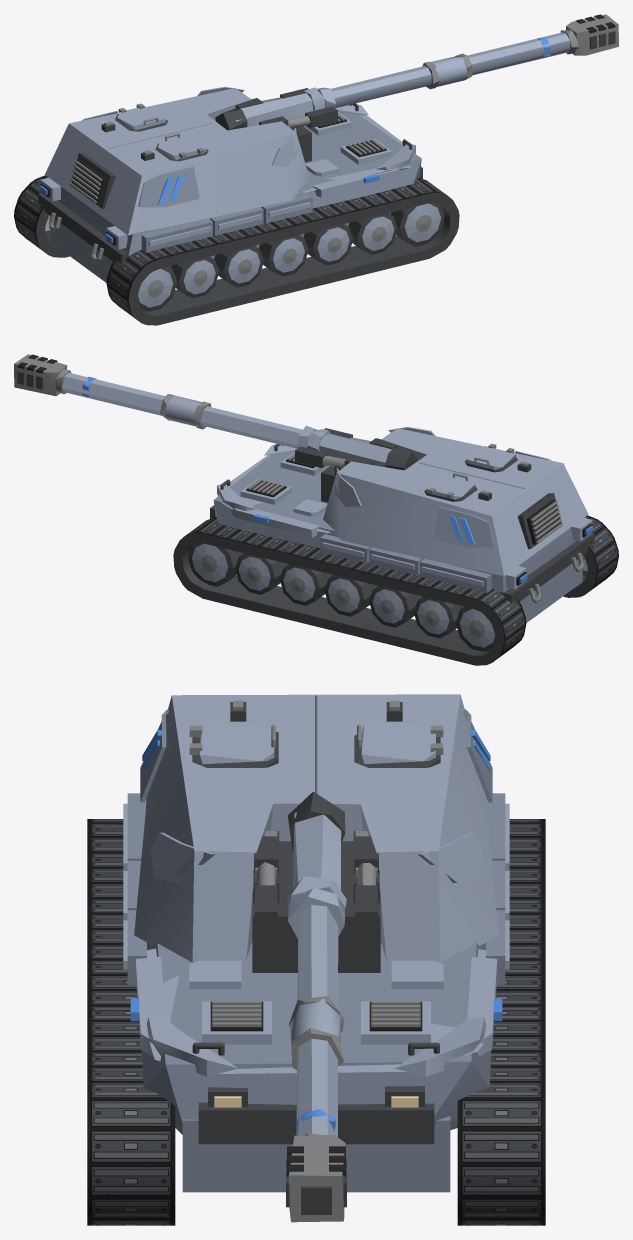
Rendered from artillery.glb.
3 views of the same model, one above another, from view 1: azimuth 30°, elevation 25°; view 2: azimuth 150°, elevation 25°; view 3: azimuth 270°, elevation 25° (orthographic). The views are drawn at different scales.
Parts seen in each view (by area): view 1: Turret, Hull, TrackR, Gun, TrackL, WheelT7, WheelT8, WheelT10, WheelT9, WheelT11, WheelT12, WheelT13; view 2: Turret, Hull, TrackL, Gun, TrackR, WheelT0, WheelT4, WheelT1, WheelT3, WheelT2, WheelT5, WheelT6; view 3: Turret, Hull, TrackL, TrackR, Gun.
Boxes of the visible parts, x1,y1,x2,y2 form: Turret: [45, 86, 337, 235]; Hull: [38, 103, 422, 282]; TrackR: [106, 177, 459, 325]; Gun: [215, 14, 618, 130]; TrackL: [14, 175, 69, 257]; WheelT7: [390, 202, 444, 246]; WheelT8: [348, 213, 397, 254]; WheelT10: [259, 235, 308, 276]; WheelT9: [303, 224, 353, 265]; WheelT11: [214, 245, 263, 287]; WheelT12: [170, 256, 219, 298]; WheelT13: [138, 266, 177, 311]; Turret: [295, 427, 588, 575]; Hull: [210, 444, 594, 622]; TrackL: [173, 517, 526, 665]; Gun: [14, 354, 417, 470]; TrackR: [563, 515, 618, 597]; WheelT0: [188, 542, 241, 586]; WheelT4: [369, 585, 418, 627]; WheelT1: [235, 553, 284, 594]; WheelT3: [324, 575, 373, 616]; WheelT2: [279, 564, 329, 605]; WheelT5: [413, 596, 462, 638]; WheelT6: [455, 606, 494, 651]; Turret: [134, 694, 498, 972]; Hull: [123, 793, 509, 1192]; TrackL: [457, 819, 545, 1225]; TrackR: [87, 819, 175, 1225]; Gun: [286, 791, 346, 1222].
Bounding box in the file's own units: 11.82 × 2.95 × 4.32.
Materials: 8 (1 with a texture image).
